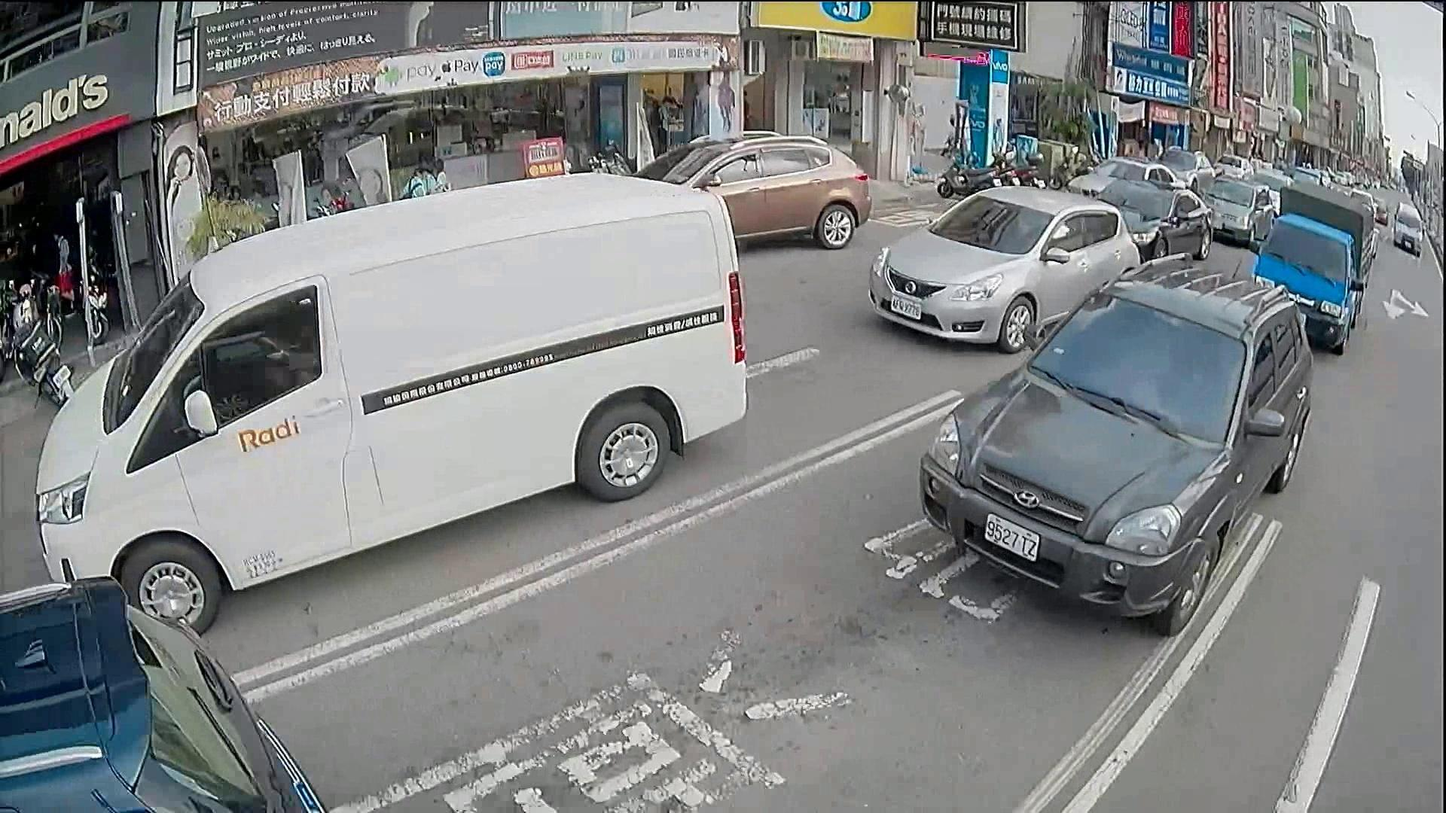person: (389, 169, 421, 202), (426, 164, 448, 193)
